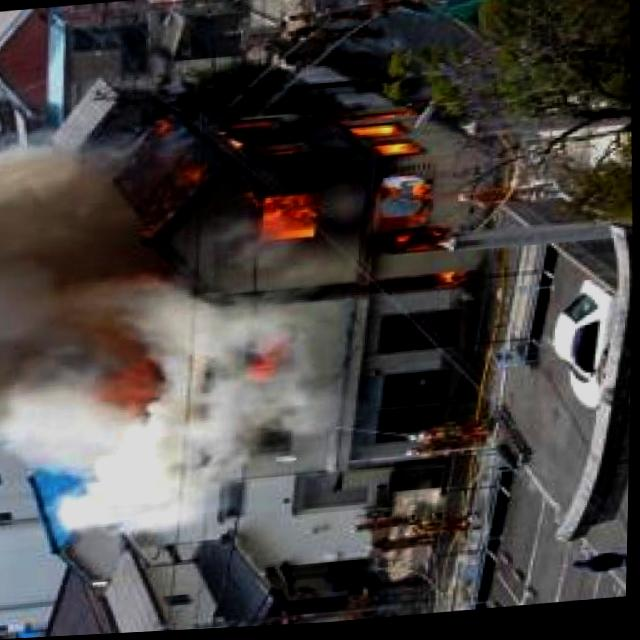helmet: (146, 74, 484, 316)
no_helmet: (0, 300, 342, 560), (0, 139, 155, 326)
